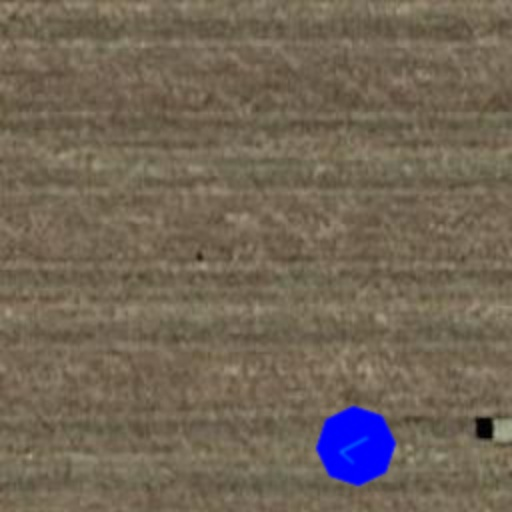octagon: (298, 388, 414, 504)
